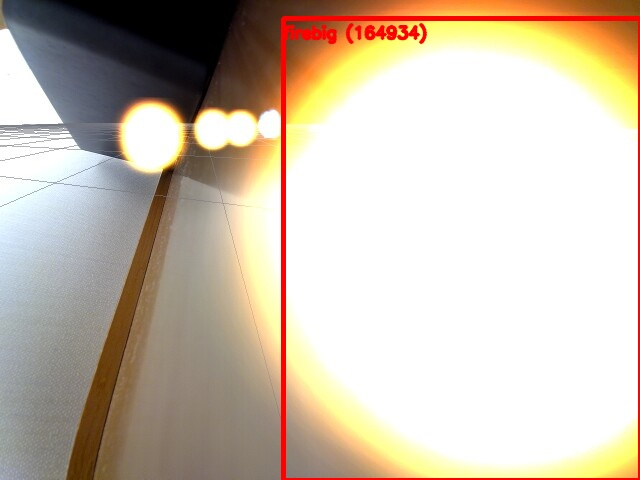firebig: (283, 18, 640, 480)
